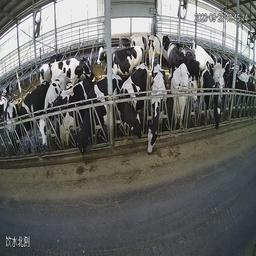cow: (79, 69, 115, 163), (33, 73, 67, 169), (171, 61, 202, 131), (120, 62, 146, 145), (144, 59, 167, 145), (202, 58, 222, 135), (53, 49, 93, 87), (97, 41, 141, 72), (144, 26, 164, 63), (162, 32, 182, 69)
